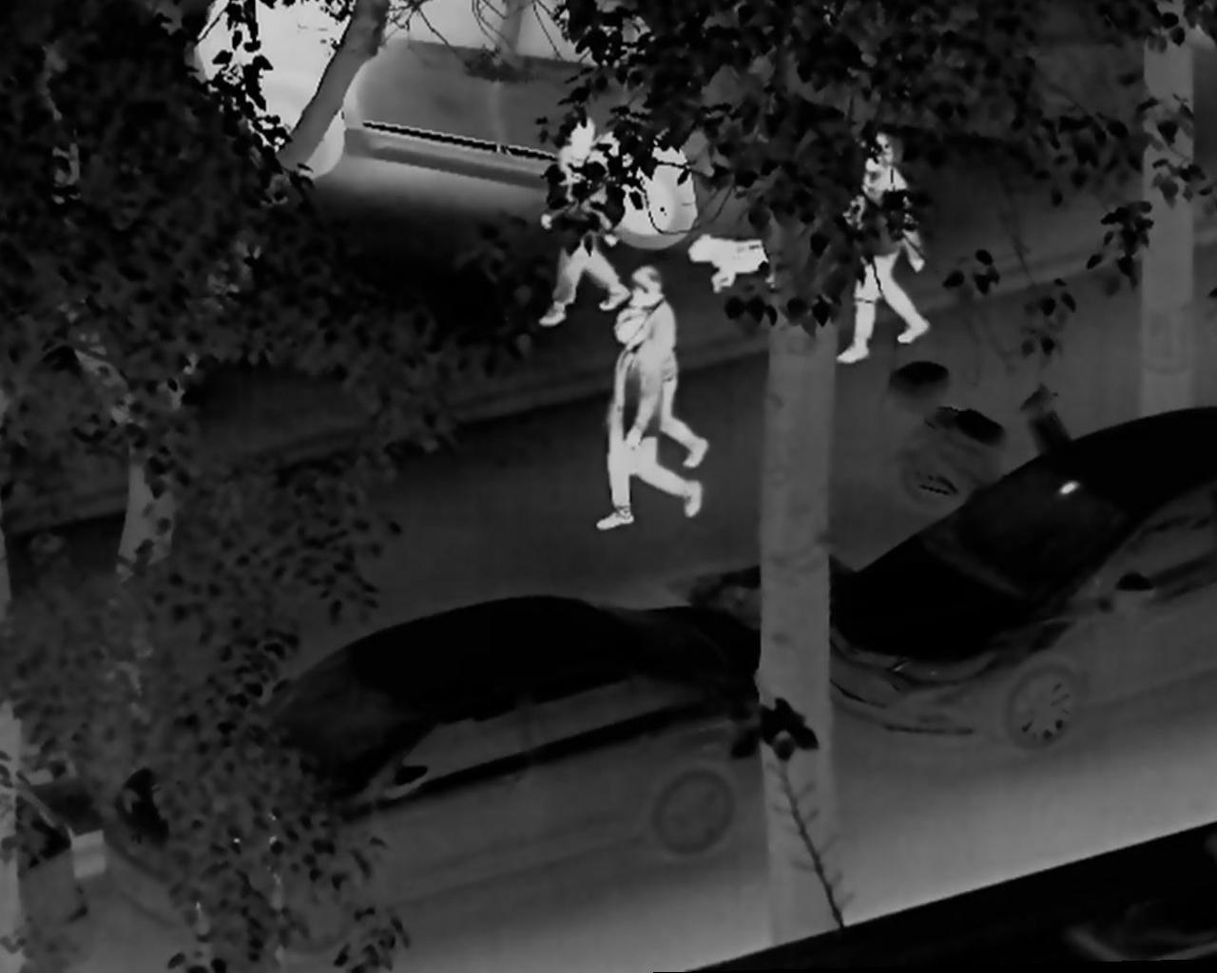person: (835, 125, 945, 369), (592, 312, 705, 536), (607, 266, 710, 480), (536, 112, 632, 334)
